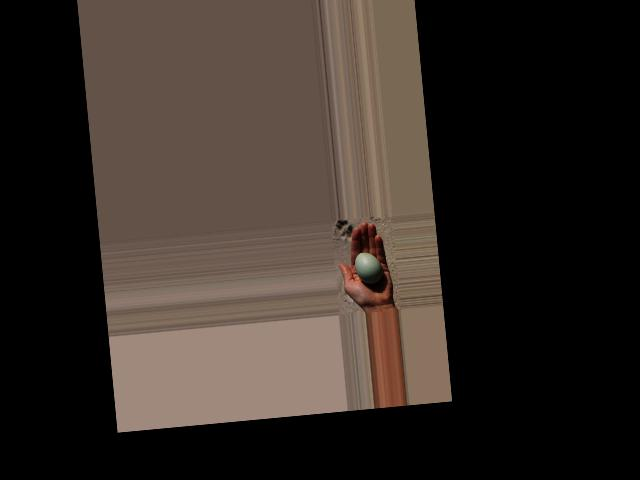egg: (354, 250, 383, 284)
